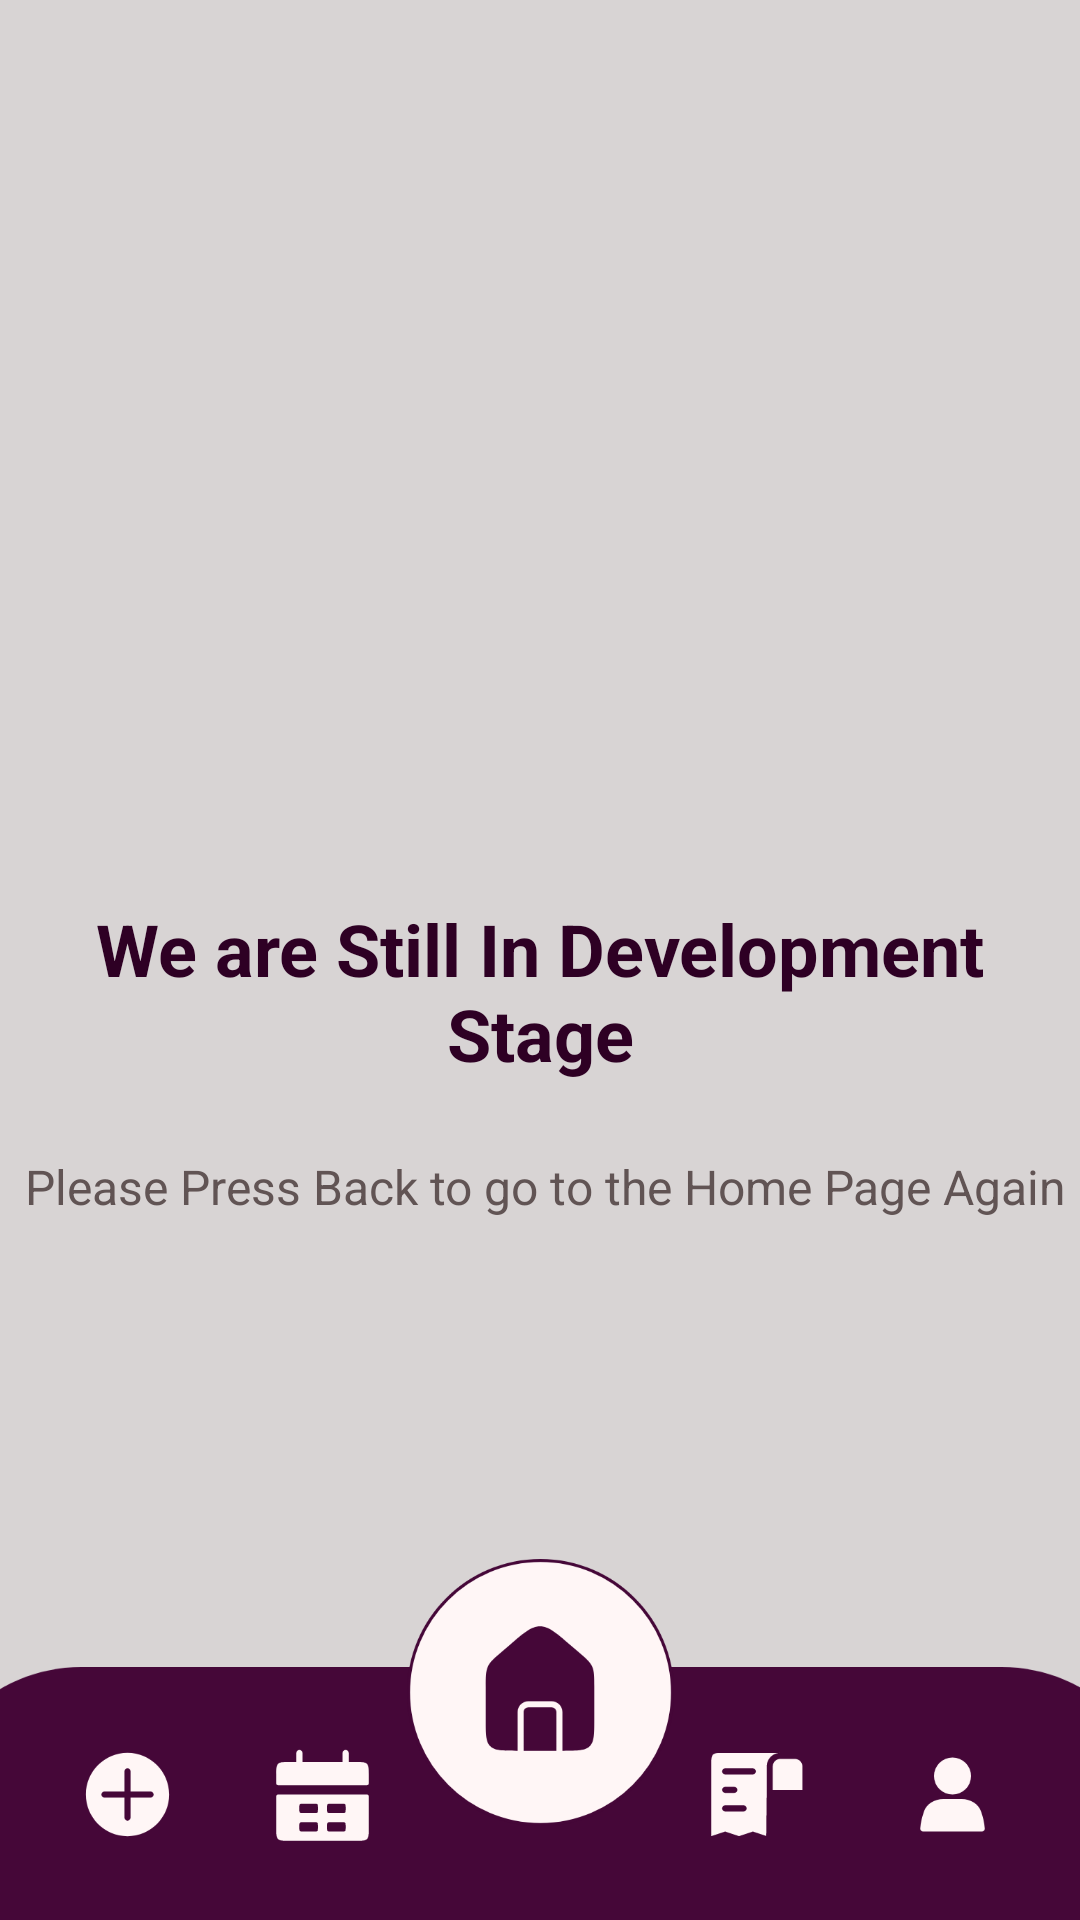

Named icons in this screenshot (1080px x 1920px) and their bounding boxes, (x1, y1, x2, y2):
acc: (920, 1757, 985, 1832)
add: (85, 1752, 170, 1837)
event: (276, 1749, 369, 1841)
